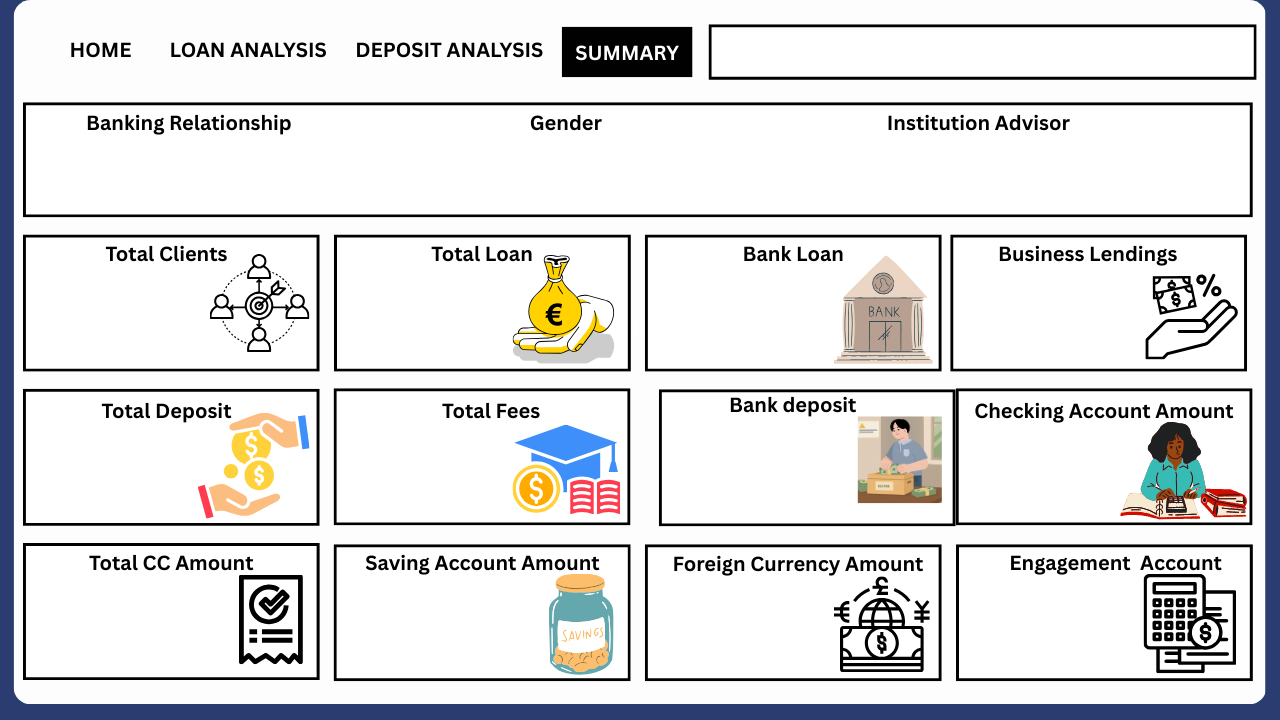

Layout of this report page (visuals, bound fields, positions):
{"tool":"powerbi","page":{"name":"Summary","canvas":[1280,720],"ordinal":3},"visuals":[{"type":"slicer","fields":{"Values":["Banking.Joined Bank.Variation.Date Hierarchy.Year"]},"box":[724.5,28.8,517.3,41.2],"z":0},{"type":"slicer","fields":{"Values":["Banking.BRId"]},"box":[24.7,145.5,426.8,50.8],"z":1000},{"type":"slicer","fields":{"Values":["Banking.GenderId"]},"box":[437.7,145.5,277.2,50.8],"z":2000},{"type":"slicer","fields":{"Values":["Banking.IAId"]},"box":[741,145.5,484.4,50.8],"z":3000},{"type":"card","fields":{"Values":["CountNonNull(Banking.Name)"]},"box":[59,277.2,145.5,71.4],"z":4000},{"type":"card","fields":{"Values":["Sum(Banking.Saving Accounts)"]},"box":[331.8,583.9,211.1,71.2],"z":13000},{"type":"card","fields":{"Values":["Sum(Banking.Checking Accounts)"]},"box":[26.5,592.4,211.1,72.4],"z":14000},{"type":"card","fields":{"Values":["Banking.Total Loans"]},"box":[322.1,282.3,211.1,60.3],"z":15001},{"type":"card","fields":{"Values":["Sum(Banking.Bank Loans)"]},"box":[634.6,288.3,211.1,60.3],"z":15002},{"type":"card","fields":{"Values":["Sum(Banking.Business Lending)"]},"box":[943.4,282.3,211.1,60.3],"z":15003},{"type":"card","fields":{"Values":["Banking.Total Deposit"]},"box":[10.9,437.9,211.1,60.3],"z":15004},{"type":"card","fields":{"Values":["Sum(Banking.Bank Deposits)"]},"box":[672,429.5,173.7,60.3],"z":15005},{"type":"card","fields":{"Values":["Sum(Banking.Checking Accounts)"]},"box":[943.4,437.9,202.7,60.3],"z":15006},{"type":"card","fields":{"Values":["Sum(Banking.Foreign Currency Account)"]},"box":[634.6,592.4,211.1,71.2],"z":15007},{"type":"card","fields":{"Values":["Banking.Engaged Customers"]},"box":[943.8,592.5,211.2,71.2],"z":15008},{"type":"card","fields":{"Values":["Banking.Total Fees"]},"box":[322.5,437.5,211.2,60],"z":15009}]}

Visuals, with their boxes in screenshot pixels (x1, y1, x2, y2), scaled from the page's 1280x720 canvas onto the 1280x720 screenshot:
slicer - Banking.Joined Bank.Variation.Date Hierarchy.Year: left=724, top=29, right=1242, bottom=70
slicer - Banking.BRId: left=25, top=146, right=452, bottom=196
slicer - Banking.GenderId: left=438, top=146, right=715, bottom=196
slicer - Banking.IAId: left=741, top=146, right=1225, bottom=196
card - CountNonNull(Banking.Name): left=59, top=277, right=204, bottom=349
card - Sum(Banking.Saving Accounts): left=332, top=584, right=543, bottom=655
card - Sum(Banking.Checking Accounts): left=26, top=592, right=238, bottom=665
card - Banking.Total Loans: left=322, top=282, right=533, bottom=343
card - Sum(Banking.Bank Loans): left=635, top=288, right=846, bottom=349
card - Sum(Banking.Business Lending): left=943, top=282, right=1154, bottom=343
card - Banking.Total Deposit: left=11, top=438, right=222, bottom=498
card - Sum(Banking.Bank Deposits): left=672, top=430, right=846, bottom=490
card - Sum(Banking.Checking Accounts): left=943, top=438, right=1146, bottom=498
card - Sum(Banking.Foreign Currency Account): left=635, top=592, right=846, bottom=664
card - Banking.Engaged Customers: left=944, top=592, right=1155, bottom=664
card - Banking.Total Fees: left=322, top=438, right=534, bottom=498
